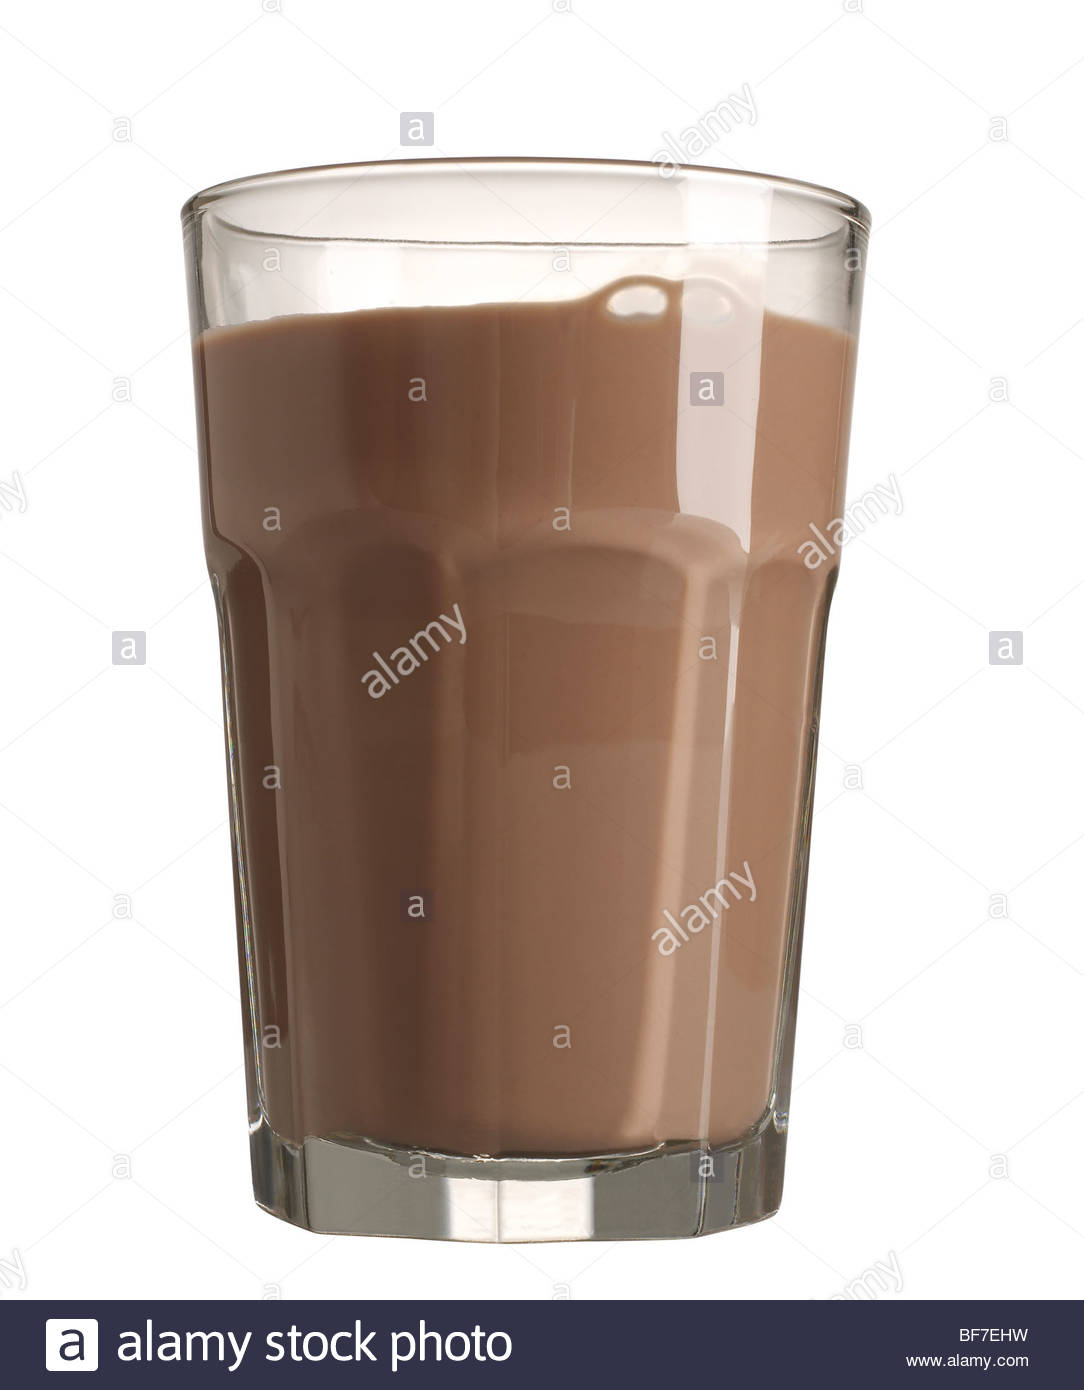glass of milk: (236, 155, 802, 923)
